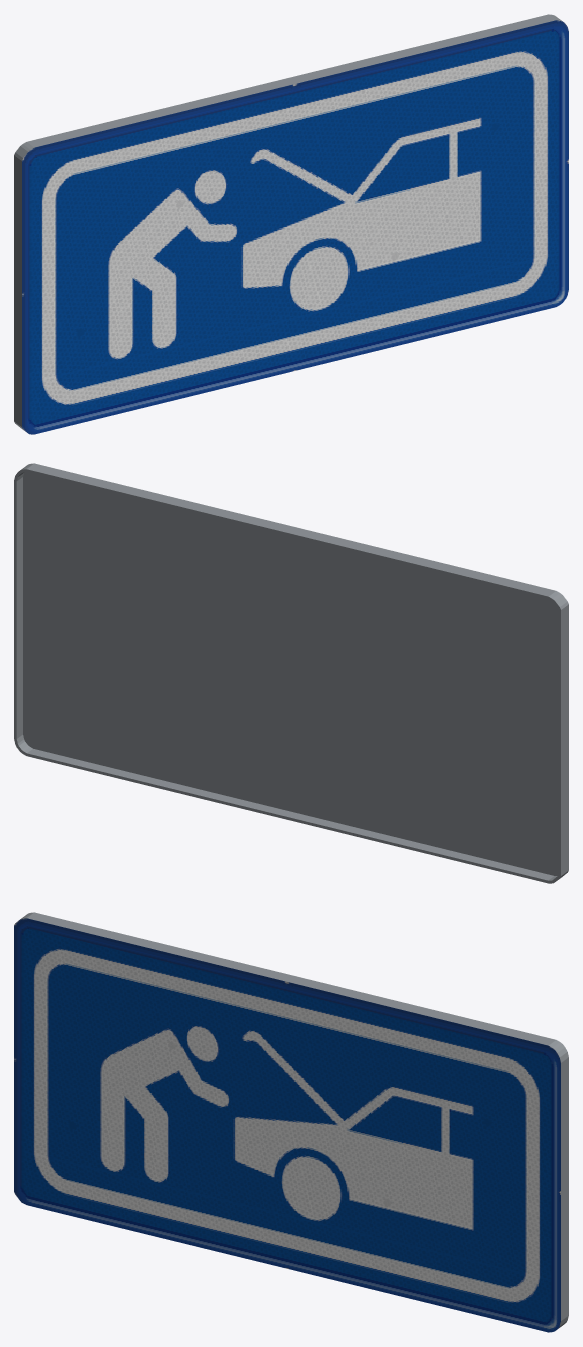
The picture shows the model from 3 angles, top to bottom: view 1: azimuth 30°, elevation 25°; view 2: azimuth 150°, elevation 25°; view 3: azimuth 330°, elevation 25°; orthographic projection.
Parts seen in each view (by area): view 1: cat_ed3c0745157b40b6; view 2: cat_ed3c0745157b40b6; view 3: cat_ed3c0745157b40b6.
Boxes of the visible parts, left/top/right/bottom form: cat_ed3c0745157b40b6: left=14, top=14, right=568, bottom=434; cat_ed3c0745157b40b6: left=14, top=463, right=568, bottom=883; cat_ed3c0745157b40b6: left=14, top=912, right=568, bottom=1332.
Size of the model in its own units: 0.6 by 0.015 by 0.3007.
2 materials, 1 textured.
